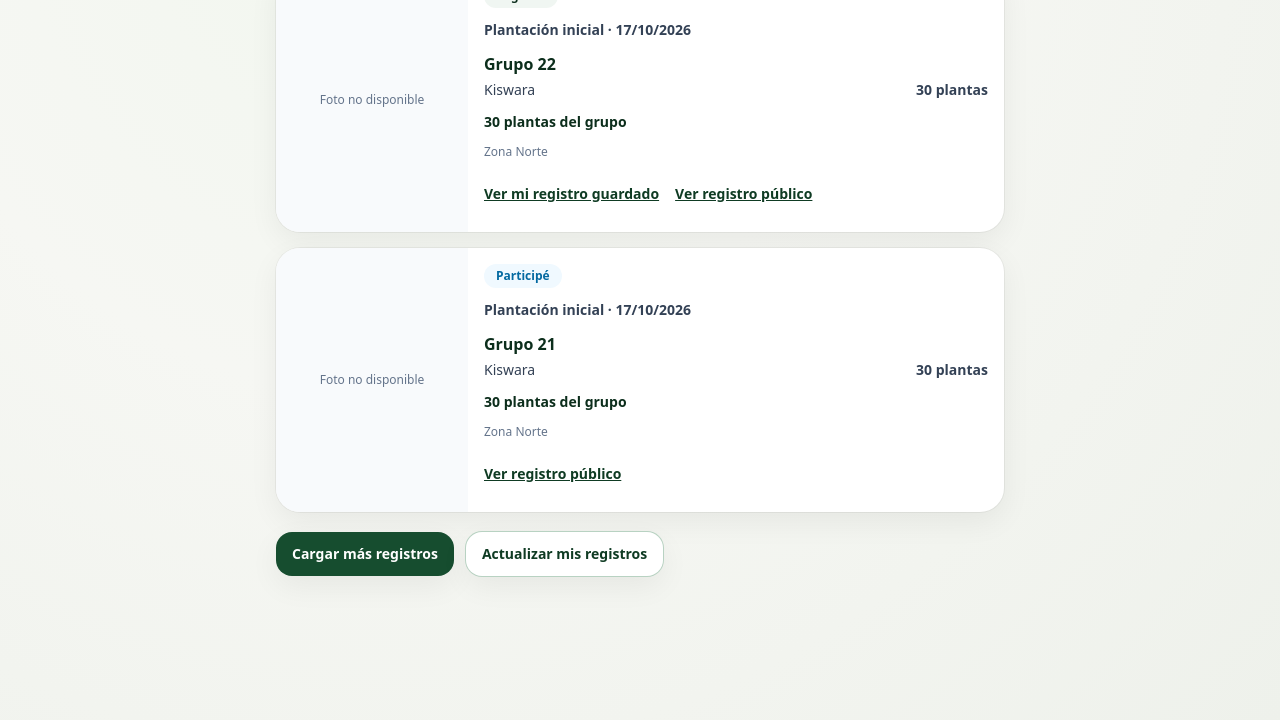
Test: Mis registros por relación histórica › deduplica páginas y distingue autor y participante sin repartir cantidades
The image size is (1280, 720).
(page scrolled)
What coordinates should you click on to do the following:
click the button "Cargar más registros"
I would click on:
 (365, 554)
Its box is [276, 532, 454, 576].
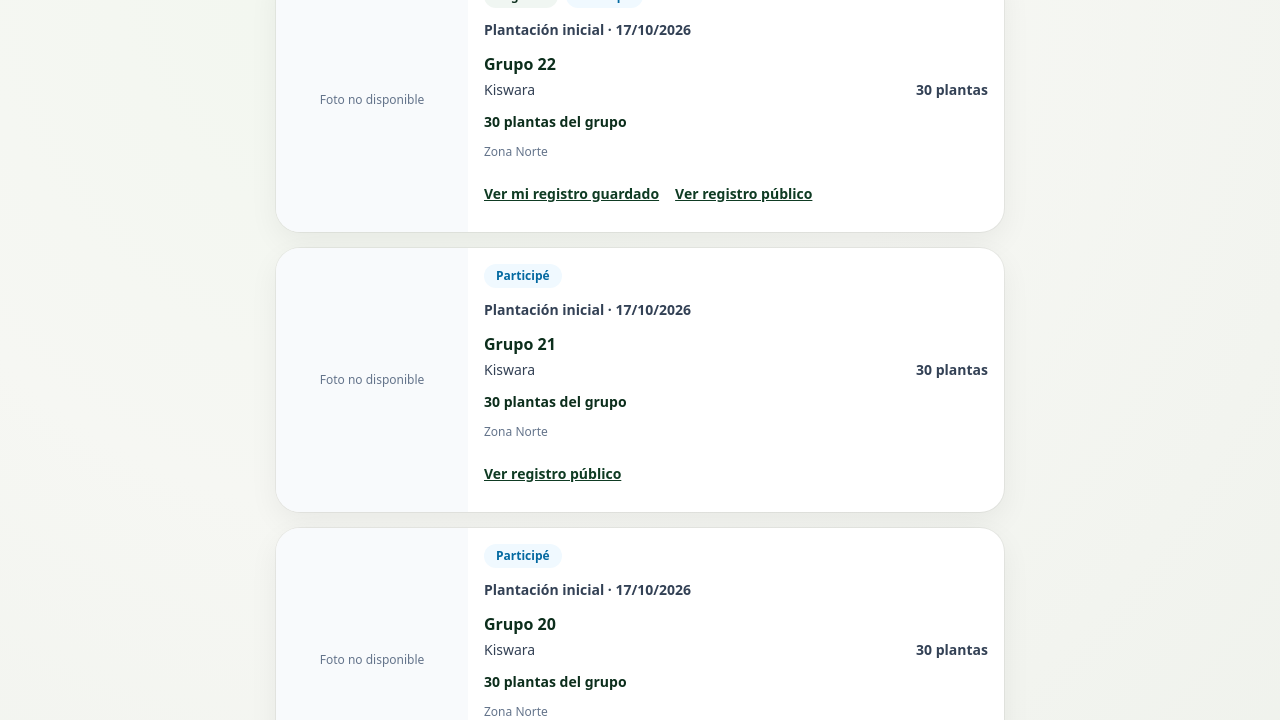
Check: the heading "Grupo 20" is shown, box [484, 613, 556, 635]
